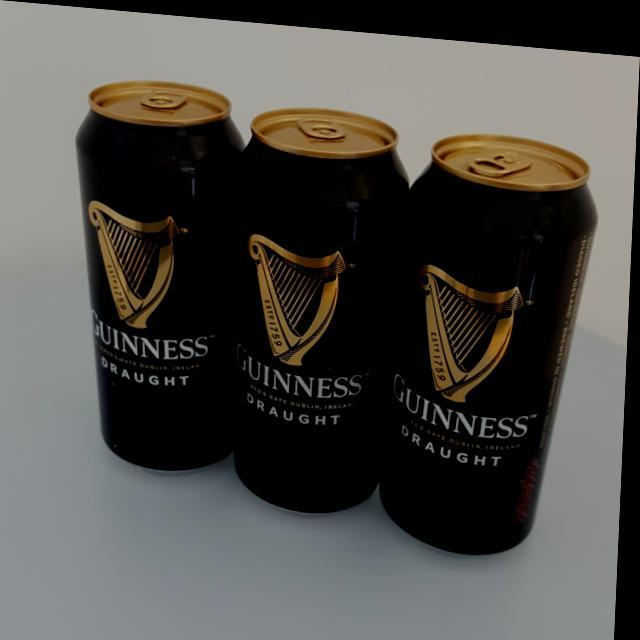beer-can: (381, 118, 602, 554), (221, 96, 414, 514), (65, 72, 251, 473)
